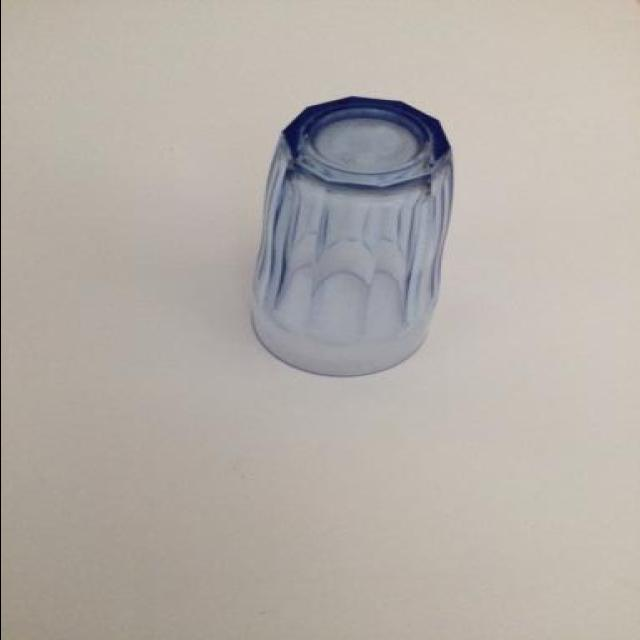Glass Bottle: (247, 96, 453, 380)
